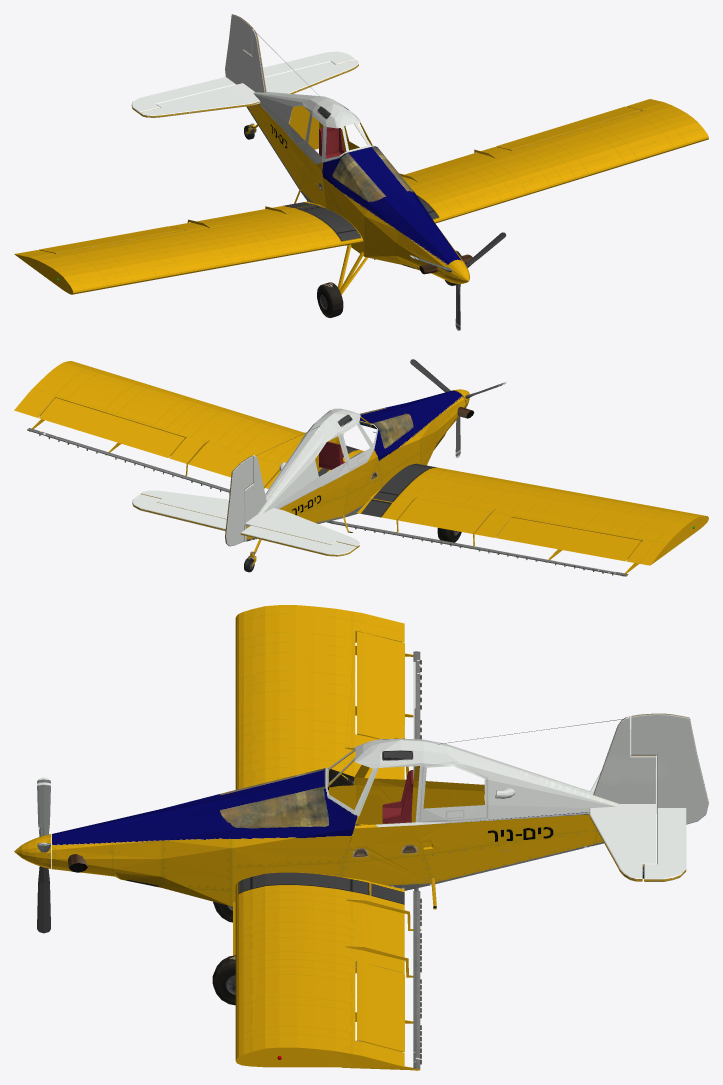
Rendered from ChimNirThrush_LOD0.gltf.
The picture shows the model from 3 angles, top to bottom: view 1: azimuth 30°, elevation 25°; view 2: azimuth 150°, elevation 25°; view 3: azimuth 270°, elevation 25°; orthographic projection. The views are drawn at different scales.
Parts seen in each view (by area): view 1: node4, node1, node5; view 2: node4, node1; view 3: node4, node1, node5.
Part boxes in pixels (bbox=[...]): node4: bbox=[14, 51, 708, 294]; node1: bbox=[225, 14, 506, 330]; node5: bbox=[289, 106, 372, 151]; node4: bbox=[14, 361, 708, 576]; node1: bbox=[225, 359, 506, 572]; node4: bbox=[235, 605, 686, 1070]; node1: bbox=[14, 713, 708, 1005]; node5: bbox=[327, 750, 484, 824].
Size of the model in its own units: 14.5 by 3.78 by 9.58.
